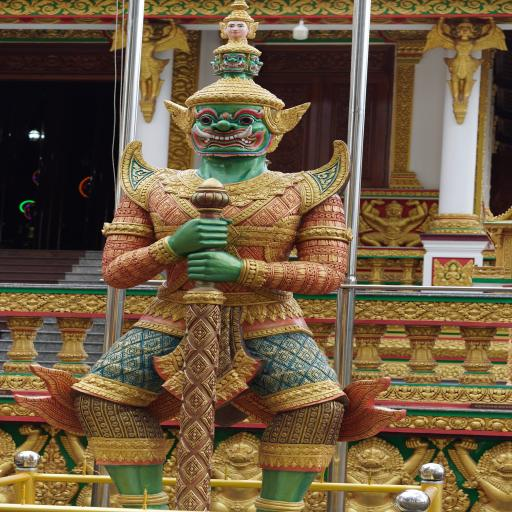than: (33, 2, 429, 512), (102, 13, 205, 124), (412, 13, 512, 126), (322, 430, 442, 512), (189, 425, 285, 512), (443, 433, 512, 512), (0, 420, 53, 512), (354, 195, 436, 253), (214, 0, 269, 69)
